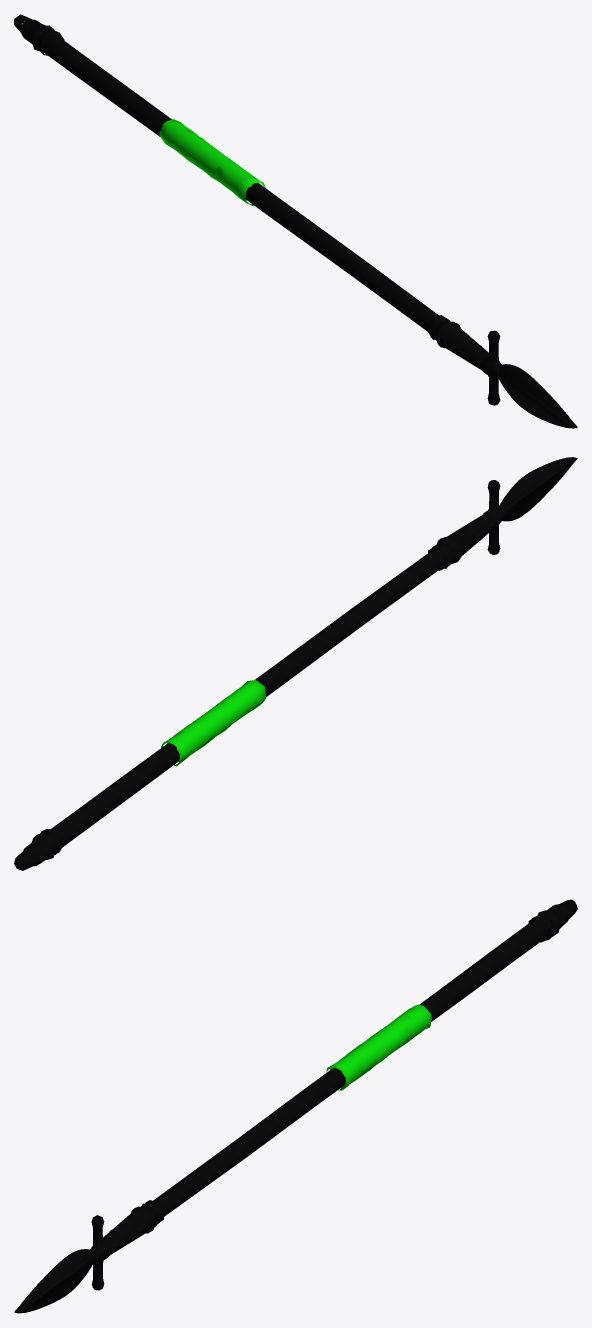
The model's file is boarspear.glb.
3 renders of one model, top to bottom at view 1: azimuth 30°, elevation 25°; view 2: azimuth 150°, elevation 25°; view 3: azimuth 330°, elevation 25°, orthographic.
Visible parts, largest first — view 1: boarspear; view 2: boarspear; view 3: boarspear.
Part boxes in pixels (box(x1,y1,x2,y2)): boarspear: box(14, 14, 577, 428); boarspear: box(14, 457, 577, 870); boarspear: box(14, 899, 577, 1313).
Bounding box in the file's own units: 0.0456 × 0.1243 × 1.7.
